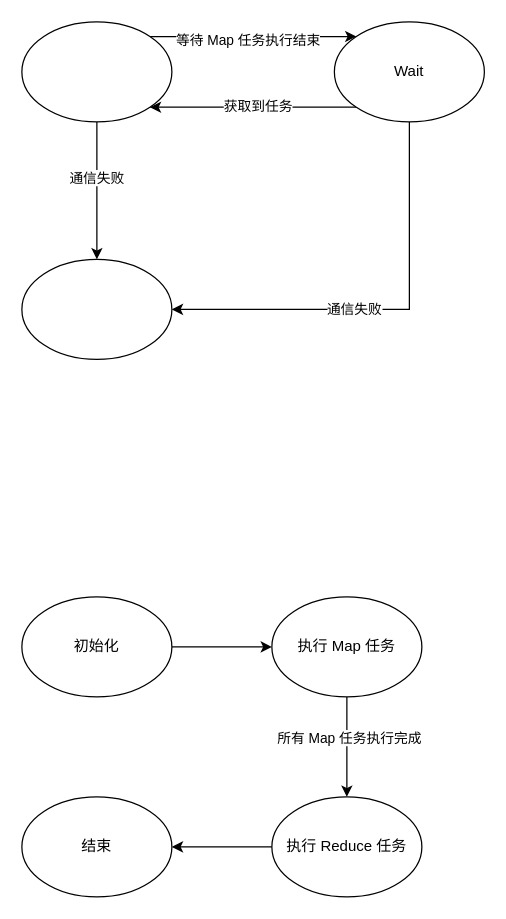
Image size: 506x919. Some labels were removed from this diagram. Each missing label, with the centre of its shape:
"Exit" belongs at pixel 96 308.
"Process" belongs at pixel 96 71.
